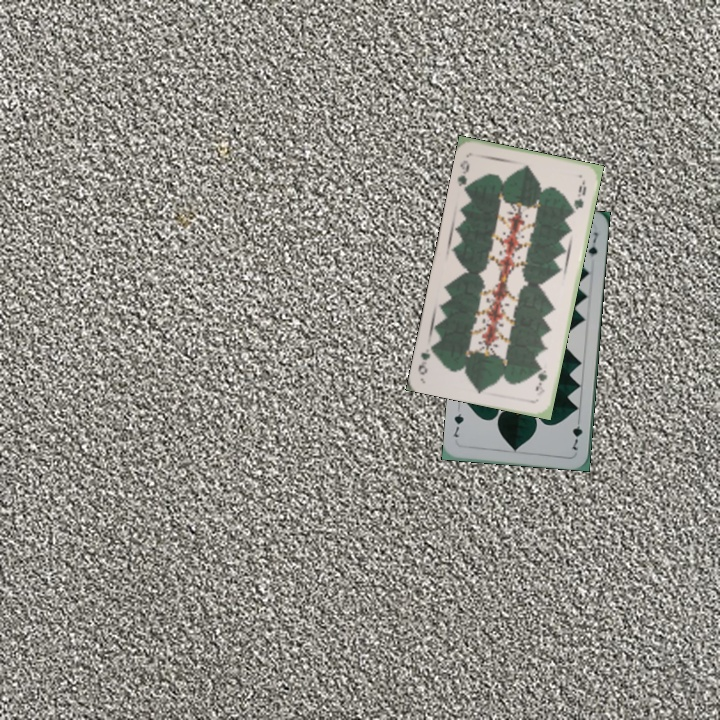G7: (568, 413, 585, 453)
G9: (453, 156, 472, 193), (532, 364, 550, 394)
